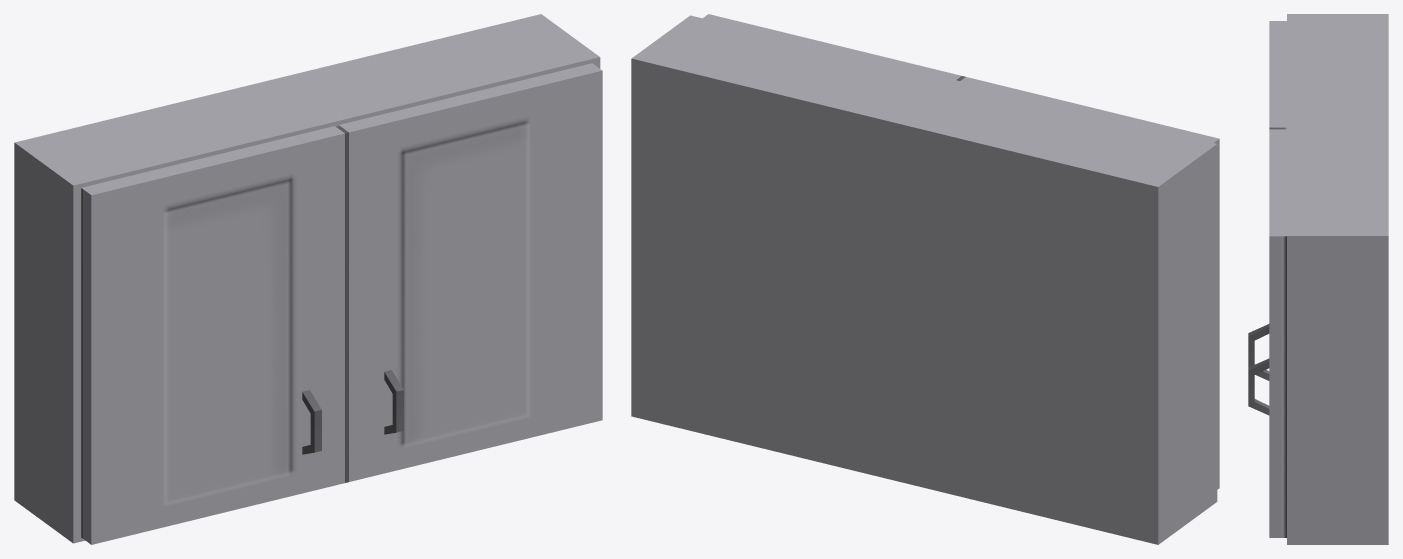
File: Cupboard_5_1.fbx
3 views of the same model, side by side, from view 1: azimuth 30°, elevation 25°; view 2: azimuth 150°, elevation 25°; view 3: azimuth 270°, elevation 25° (orthographic). The views are drawn at different scales.
Visible parts, largest first — view 1: polySurface1570; view 2: polySurface1570; view 3: polySurface1570.
Part boxes in pixels (x1,y1,x2,y2): polySurface1570: [14, 14, 602, 544]; polySurface1570: [631, 14, 1219, 544]; polySurface1570: [1248, 14, 1388, 544].
Bounding box in the file's own units: 1.8 × 1.17 × 0.4813.
